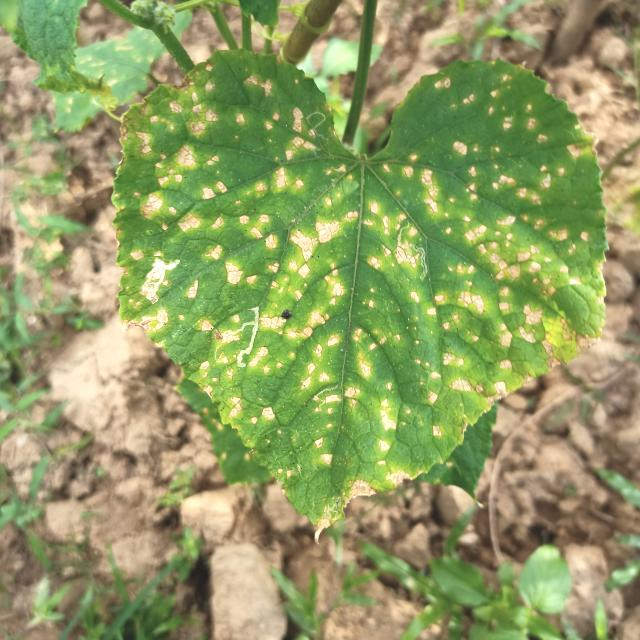disease_cucumber: (125, 70, 589, 472)
